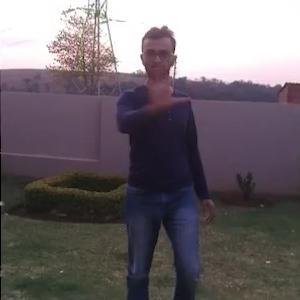follow_hand: (141, 64, 188, 110)
